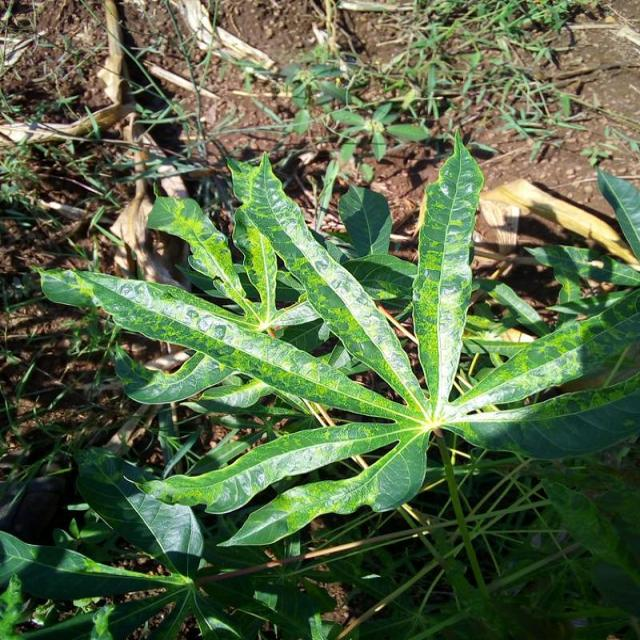cassava leaf: (37, 130, 638, 565), (410, 126, 484, 418)
